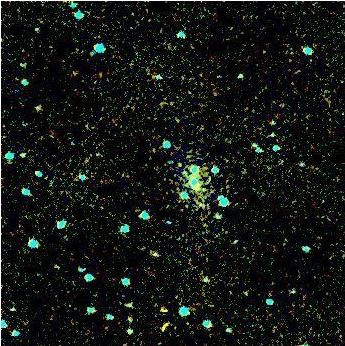star: (162, 149, 192, 179)
